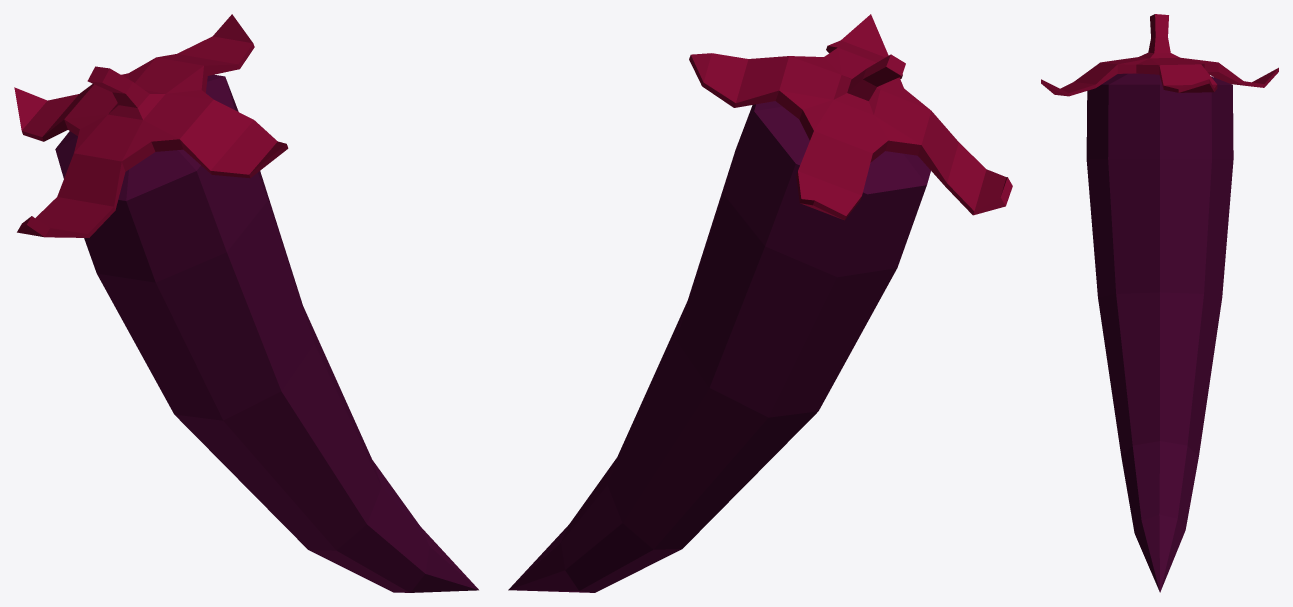
Rendered from SerranoPepper_01.fbx.
3 views of the same model, side by side, from view 1: azimuth 30°, elevation 25°; view 2: azimuth 150°, elevation 25°; view 3: azimuth 270°, elevation 25° (orthographic). The views are drawn at different scales.
Parts seen in each view (by area): view 1: SerranoPepper_01; view 2: SerranoPepper_01; view 3: SerranoPepper_01.
Part boxes in pixels (x1,y1,x2,y2): SerranoPepper_01: (14,14,478,592); SerranoPepper_01: (508,14,1012,592); SerranoPepper_01: (1041,14,1278,592).
Bounding box in the file's own units: 4.66 × 5.76 × 2.78.
